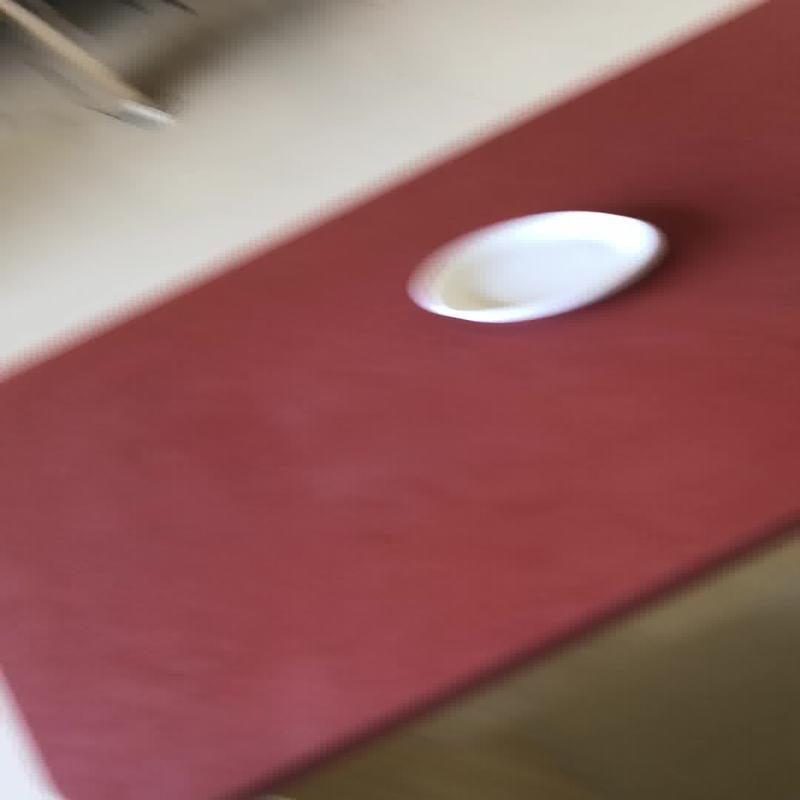plate: (0, 0, 796, 798), (404, 208, 667, 324)
